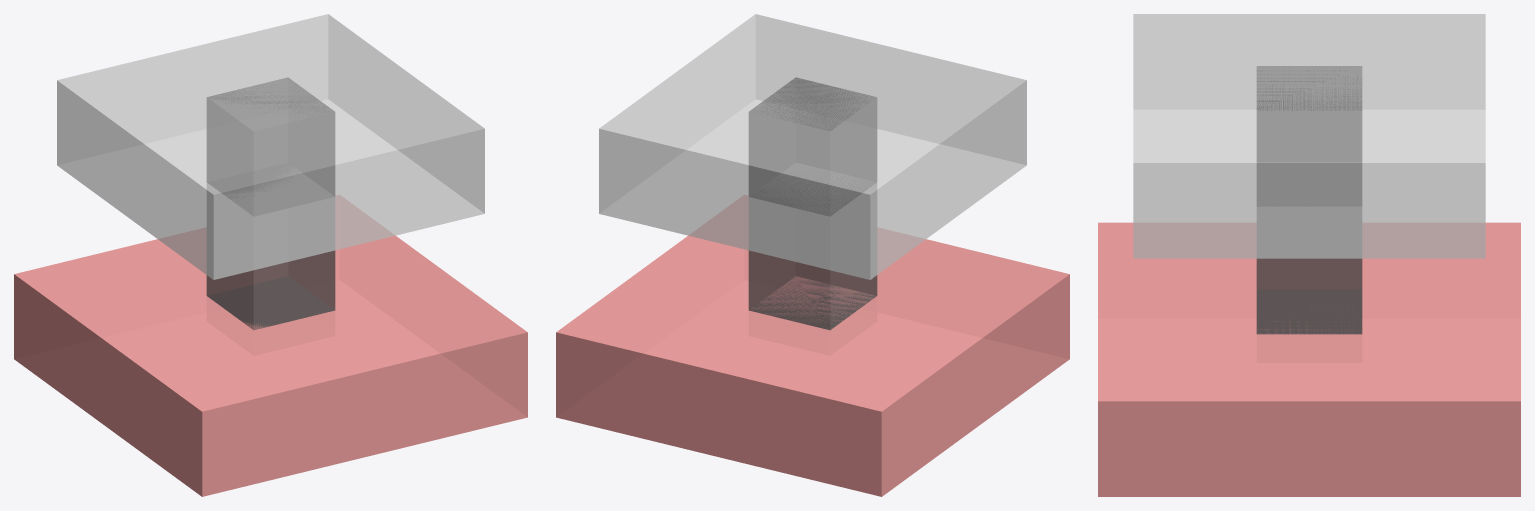
Rendered from board.glb.
The picture shows the model from 3 angles, left to right: view 1: azimuth 30°, elevation 25°; view 2: azimuth 150°, elevation 25°; view 3: azimuth 270°, elevation 25°; orthographic projection. The views are drawn at different scales.
Visible parts, largest first — view 1: Copper_Net1_Contour0 (×3); view 2: Copper_Net1_Contour0 (×3); view 3: Copper_Net1_Contour0 (×3).
Part boxes in pixels (box(x1,y1,x2,y2)): Copper_Net1_Contour0 (×3): box(14, 14, 527, 496); Copper_Net1_Contour0 (×3): box(556, 14, 1069, 496); Copper_Net1_Contour0 (×3): box(1098, 14, 1520, 496).
Size of what is drawn, in the model's own units: 1.2e-06 by 1e-06 by 1.2e-06.
